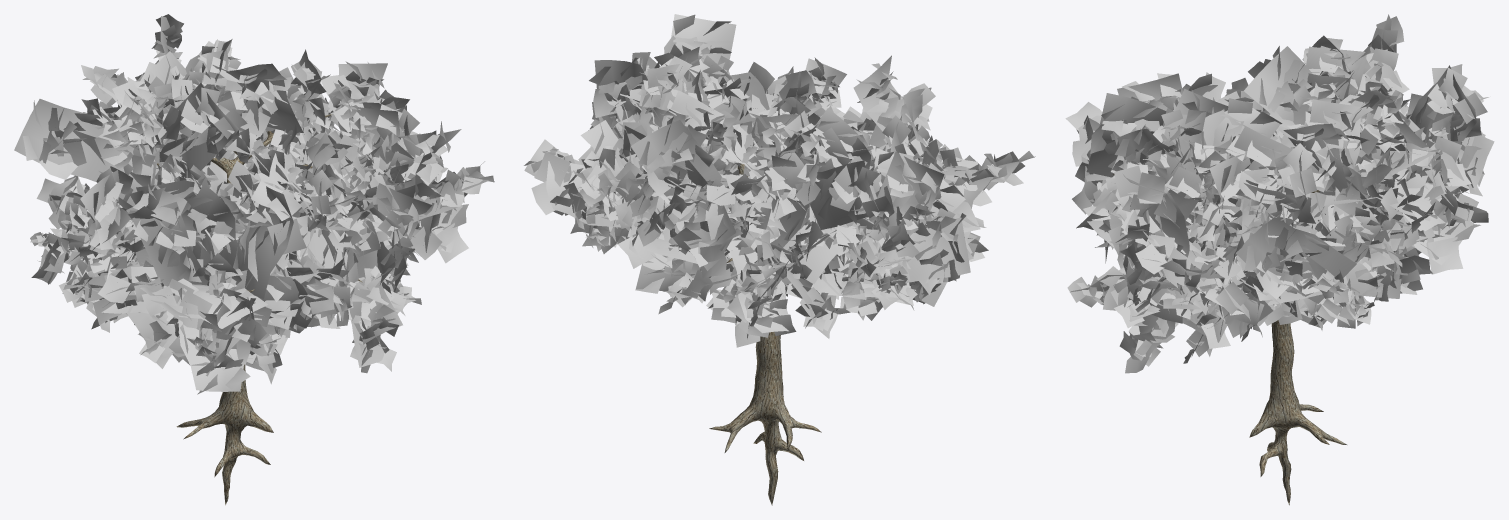
The model's file is Tree6.fbx.
3 views of the same model, side by side, from view 1: azimuth 30°, elevation 25°; view 2: azimuth 150°, elevation 25°; view 3: azimuth 270°, elevation 25° (orthographic). The views are drawn at different scales.
Visible parts, largest first — view 1: tree6|branch6-2|Dupli|22, tree6|branch6-2|Dupli|91, tree6|branch6-3|Dupli|27, tree6|branch6-2|Dupli|298, tree6, tree6|branch6-2|Dupli|82, tree6|branch6-3|Dupli|90, tree6|branch6-2|Dupli|40, tree6|branch6-1|Dupli|260, tree6|branch6-2|Dupli|118, tree6|branch6-2|Dupli|94, tree6|branch6-1|Dupli|98 (+61 smaller); view 2: tree6, tree6|branch6-2|Dupli|70, tree6|branch6-2|Dupli|22, tree6|branch6-1|Dupli|26, tree6|branch6-3|Dupli|135, tree6|branch6-2|Dupli|214, tree6|branch6-3|Dupli|282, tree6|branch6-2|Dupli|241, tree6|branch6-2|Dupli|286, tree6|branch6-2|Dupli|157, tree6|branch6-3|Dupli|291, tree6|branch6-2|Dupli|91 (+48 smaller); view 3: tree6|branch6-2|Dupli|115, tree6, tree6|branch6-2|Dupli|157, tree6|branch6-2|Dupli|70, tree6|branch6-2|Dupli|298, tree6|branch6-2|Dupli|91, tree6|branch6-3|Dupli|261, tree6|branch6-2|Dupli|1, tree6|branch6-2|Dupli|286, tree6|branch6-1|Dupli|260, tree6|branch6-1|Dupli|269, tree6|branch6-3|Dupli|174 (+61 smaller).
Boxes of the visible parts, x1,y1,x2,y2 form: tree6|branch6-2|Dupli|22: (14,99,107,182); tree6|branch6-2|Dupli|91: (239,181,306,299); tree6|branch6-3|Dupli|27: (128,190,208,285); tree6|branch6-2|Dupli|298: (163,83,247,170); tree6: (157,114,362,505); tree6|branch6-2|Dupli|82: (346,183,432,277); tree6|branch6-3|Dupli|90: (142,283,267,331); tree6|branch6-2|Dupli|40: (171,184,243,269); tree6|branch6-1|Dupli|260: (217,63,303,133); tree6|branch6-2|Dupli|118: (94,121,158,212); tree6|branch6-2|Dupli|94: (178,319,250,394); tree6|branch6-1|Dupli|98: (245,273,334,329); tree6: (709,163,821,505); tree6|branch6-2|Dupli|70: (631,117,721,201); tree6|branch6-2|Dupli|22: (810,158,894,229); tree6|branch6-1|Dupli|26: (888,213,970,285); tree6|branch6-3|Dupli|135: (673,180,742,277); tree6|branch6-2|Dupli|214: (868,151,945,227); tree6|branch6-3|Dupli|282: (531,152,620,229); tree6|branch6-2|Dupli|241: (749,152,812,247); tree6|branch6-2|Dupli|286: (589,57,647,117); tree6|branch6-2|Dupli|157: (664,14,736,63); tree6|branch6-3|Dupli|291: (703,62,774,128); tree6|branch6-2|Dupli|91: (853,55,928,147); tree6|branch6-2|Dupli|115: (1236,215,1356,303); tree6: (1113,174,1346,505); tree6|branch6-2|Dupli|157: (1114,165,1198,256); tree6|branch6-2|Dupli|70: (1409,65,1487,143); tree6|branch6-2|Dupli|298: (1244,46,1312,129); tree6|branch6-2|Dupli|91: (1086,93,1166,177); tree6|branch6-3|Dupli|261: (1324,174,1445,231); tree6|branch6-2|Dupli|1: (1202,98,1282,155); tree6|branch6-2|Dupli|286: (1261,143,1316,224); tree6|branch6-1|Dupli|260: (1297,99,1373,169); tree6|branch6-1|Dupli|269: (1278,123,1347,188); tree6|branch6-3|Dupli|174: (1119,314,1178,373).
Bounding box in the file's own units: 1563 × 1579 × 1370.
